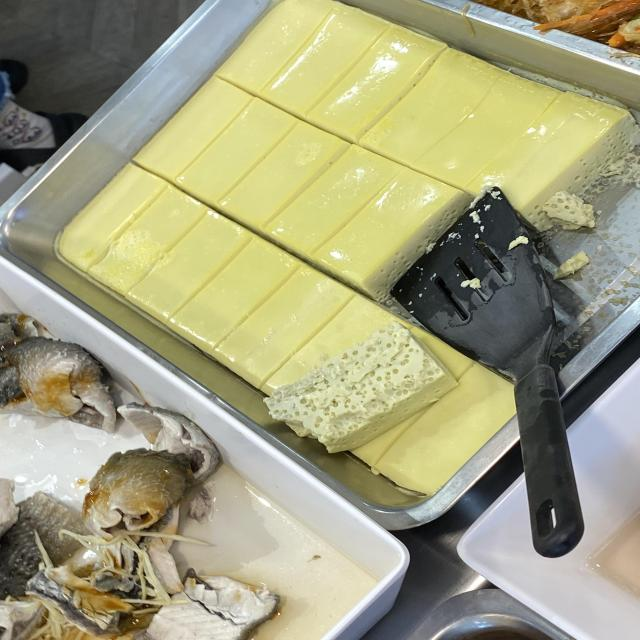steamed egg: (162, 134, 390, 318)
